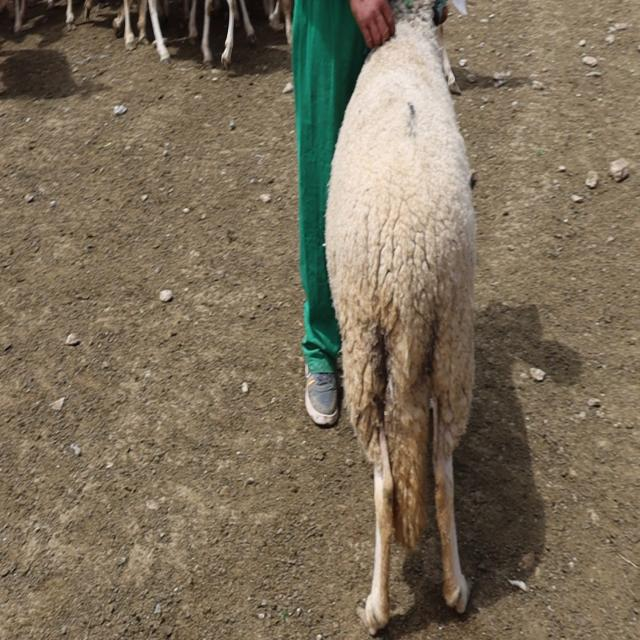Score_4: (324, 0, 476, 635)
